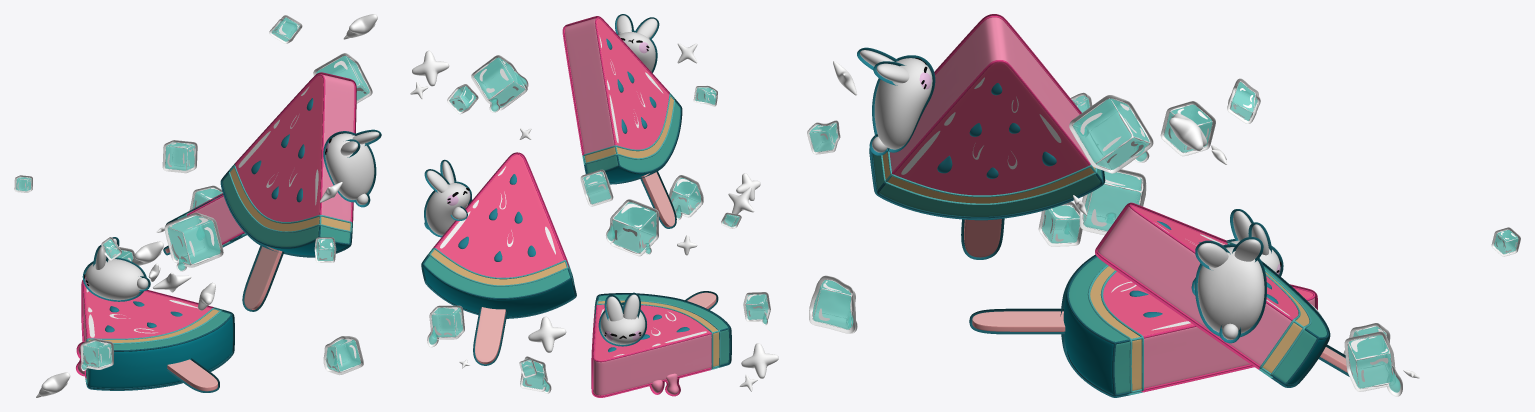
Rendered from bunny-compressed.glb.
3 renders of one model, left to right at view 1: azimuth 30°, elevation 25°; view 2: azimuth 150°, elevation 25°; view 3: azimuth 270°, elevation 25°, orthographic. The views are drawn at different scales.
Parts seen in each view (by area): view 1: WatermelonWhole.002_67, WatermelonWhole_124, Bunny.002_2, Bunny_0, Icecube.001_4, Stick.002_66, Icecube.010_10, Icecube.007_8, Stick_123, Icecube.003_5, WatermelonWhole.001_95, Icecube.006_6 (+15 smaller); view 2: WatermelonWhole.001_95, WatermelonWhole.002_67, WatermelonWhole_124, Bunny.001_1, Icecube.001_4, Bunny_0, Icecube.007_8, Stick.001_94, Bunny.002_2, Icecube.011_11, Icecube.010_10, Stick.002_66 (+17 smaller); view 3: WatermelonWhole.002_67, WatermelonWhole_124, WatermelonWhole.001_95, Bunny.001_1, Bunny.002_2, Icecube.007_8, Icecube.001_4, Icecube.011_11, Stick_123, Icecube.010_10, Icecube.006_6, WatermelonWhole-OUTLINE.001_101 (+15 smaller).
Boxes of the visible parts, x1=… form: WatermelonWhole.002_67: x1=222, y1=74, x2=354, y2=255; WatermelonWhole_124: x1=83, y1=286, x2=232, y2=388; Bunny.002_2: x1=323, y1=129, x2=381, y2=207; Bunny_0: x1=82, y1=237, x2=150, y2=301; Icecube.001_4: x1=164, y1=212, x2=223, y2=267; Stick.002_66: x1=242, y1=245, x2=283, y2=311; Icecube.010_10: x1=323, y1=336, x2=363, y2=375; Icecube.007_8: x1=313, y1=53, x2=372, y2=103; Stick_123: x1=166, y1=358, x2=219, y2=392; Icecube.003_5: x1=162, y1=140, x2=197, y2=173; WatermelonWhole.001_95: x1=188, y1=196, x2=244, y2=244; Icecube.006_6: x1=80, y1=339, x2=113, y2=369; WatermelonWhole.001_95: x1=423, y1=154, x2=574, y2=316; WatermelonWhole.002_67: x1=565, y1=18, x2=680, y2=182; WatermelonWhole_124: x1=593, y1=295, x2=729, y2=395; Bunny.001_1: x1=424, y1=159, x2=472, y2=237; Icecube.001_4: x1=610, y1=199, x2=659, y2=256; Bunny_0: x1=598, y1=292, x2=646, y2=346; Icecube.007_8: x1=471, y1=55, x2=527, y2=110; Stick.001_94: x1=473, y1=307, x2=507, y2=365; Bunny.002_2: x1=615, y1=14, x2=659, y2=73; Icecube.011_11: x1=429, y1=305, x2=464, y2=339; Icecube.010_10: x1=669, y1=175, x2=703, y2=217; Stick.002_66: x1=639, y1=171, x2=676, y2=228; WatermelonWhole.002_67: x1=872, y1=17, x2=1102, y2=216; WatermelonWhole_124: x1=1063, y1=257, x2=1314, y2=394; WatermelonWhole.001_95: x1=1098, y1=205, x2=1326, y2=384; Bunny.001_1: x1=1191, y1=237, x2=1266, y2=343; Bunny.002_2: x1=857, y1=47, x2=935, y2=155; Icecube.007_8: x1=1069, y1=95, x2=1153, y2=173; Icecube.001_4: x1=1079, y1=169, x2=1146, y2=235; Icecube.011_11: x1=1344, y1=331, x2=1395, y2=391; Stick_123: x1=969, y1=308, x2=1065, y2=334; Icecube.010_10: x1=809, y1=275, x2=855, y2=333; Icecube.006_6: x1=1038, y1=202, x2=1082, y2=246; WatermelonWhole-OUTLINE.001_101: x1=1095, y1=202, x2=1330, y2=387.
Size of the model in its own units: 0.7478 by 0.6209 by 0.9191.
